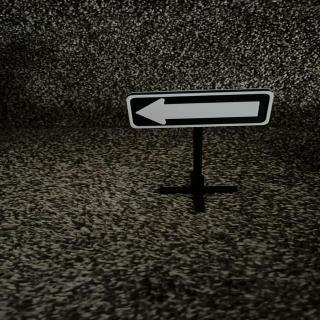sign_oneway_left: (127, 90, 275, 130)
